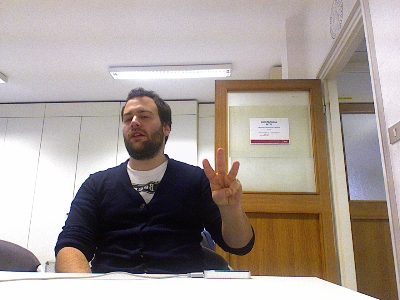三分: (201, 147, 242, 207)
